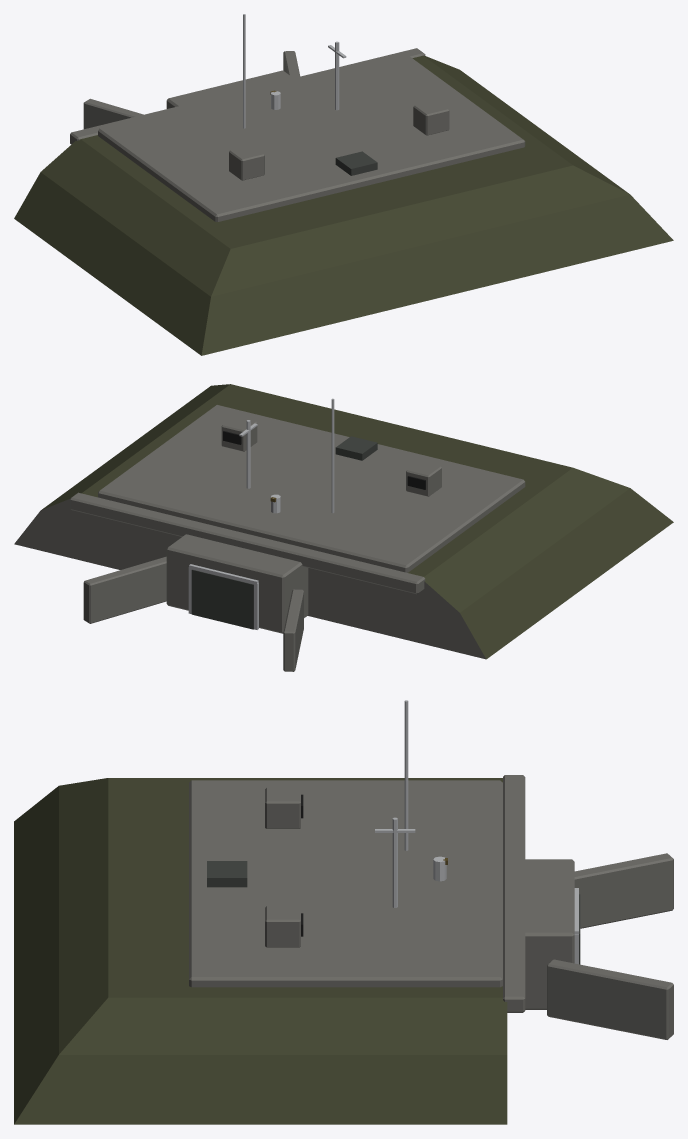
Rendered from bunker.glb.
3 renders of one model, top to bottom at view 1: azimuth 30°, elevation 25°; view 2: azimuth 150°, elevation 25°; view 3: azimuth 270°, elevation 25°, orthographic. The views are drawn at different scales.
Visible parts, largest first — view 1: bunker; view 2: bunker; view 3: bunker.
Boxes of the visible parts, x1,y1,x2,y2 form: bunker: (14,14,673,355); bunker: (14,384,673,671); bunker: (14,700,673,1124).
Size of the model in its own units: 32 by 12 by 29.43.
